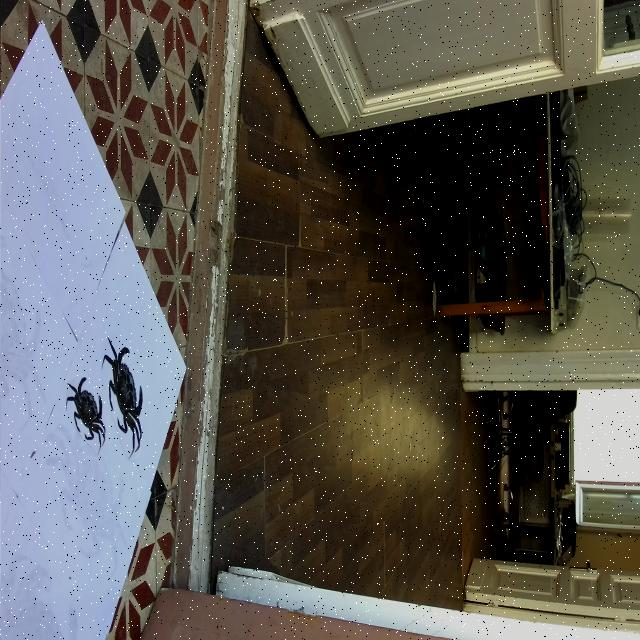European_Green_Crab: (92, 323, 156, 460), (58, 364, 115, 457)
